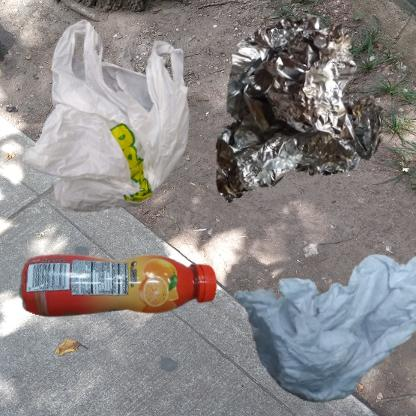aluminio: (213, 10, 388, 209)
bolsa: (10, 10, 231, 259)
botella: (10, 213, 259, 386)
papel: (213, 213, 416, 416)
